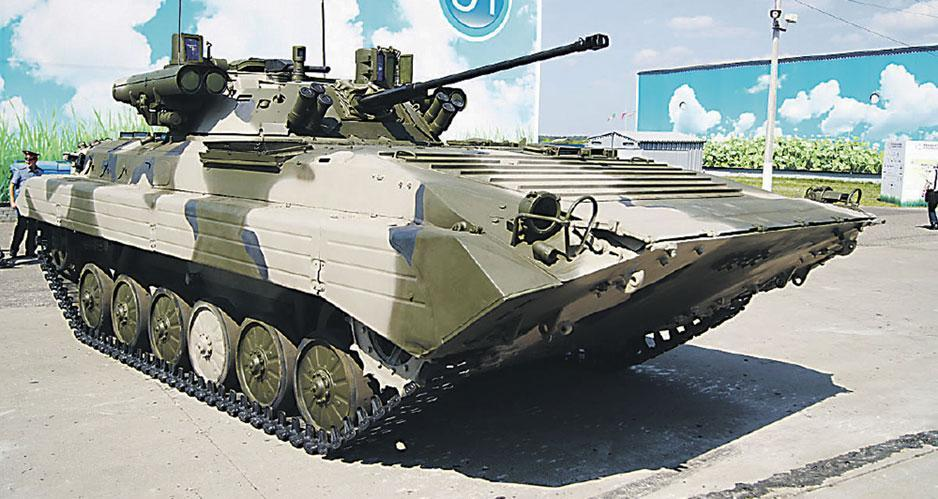tank: (14, 24, 884, 461)
